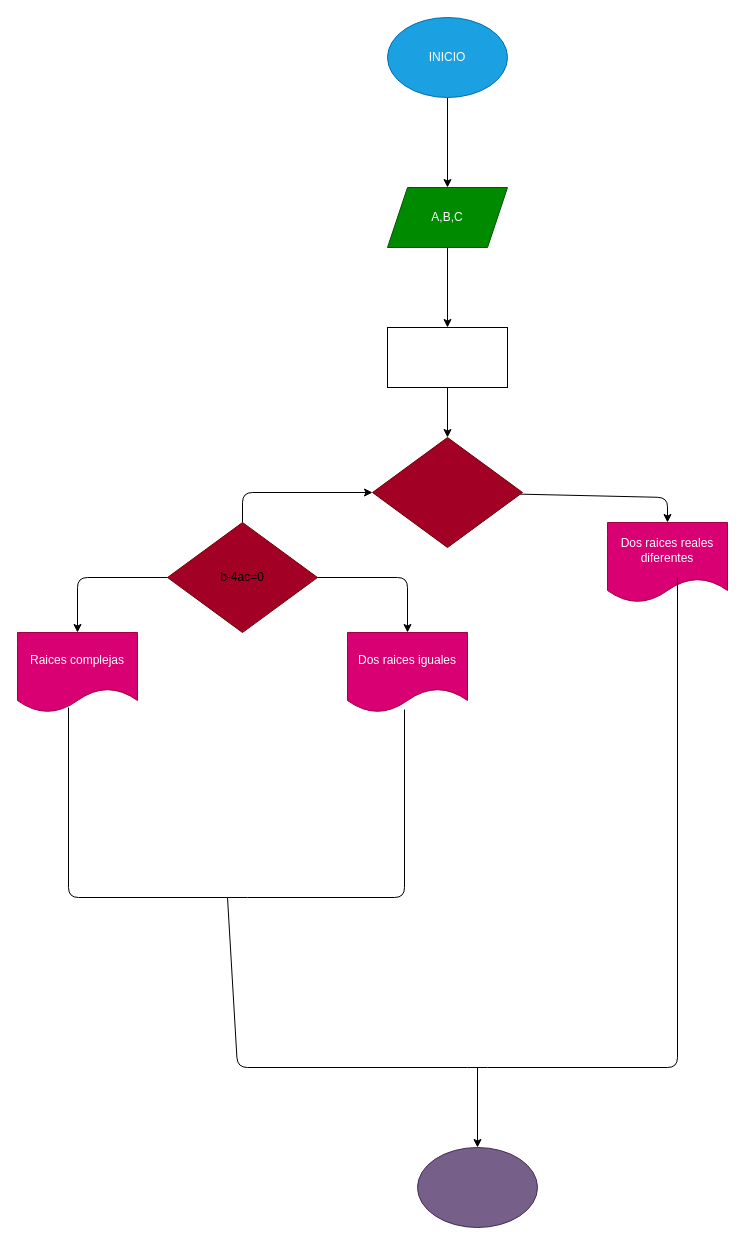
Some shapes in this 745 by 1245 pixel diagram are drawn without their labels. Each missing label, with the centre of its shape:
b2-4ac>0: (447,492)
FIN: (477,1187)
x=-B+- √b2-4ac/2a: (447,357)
